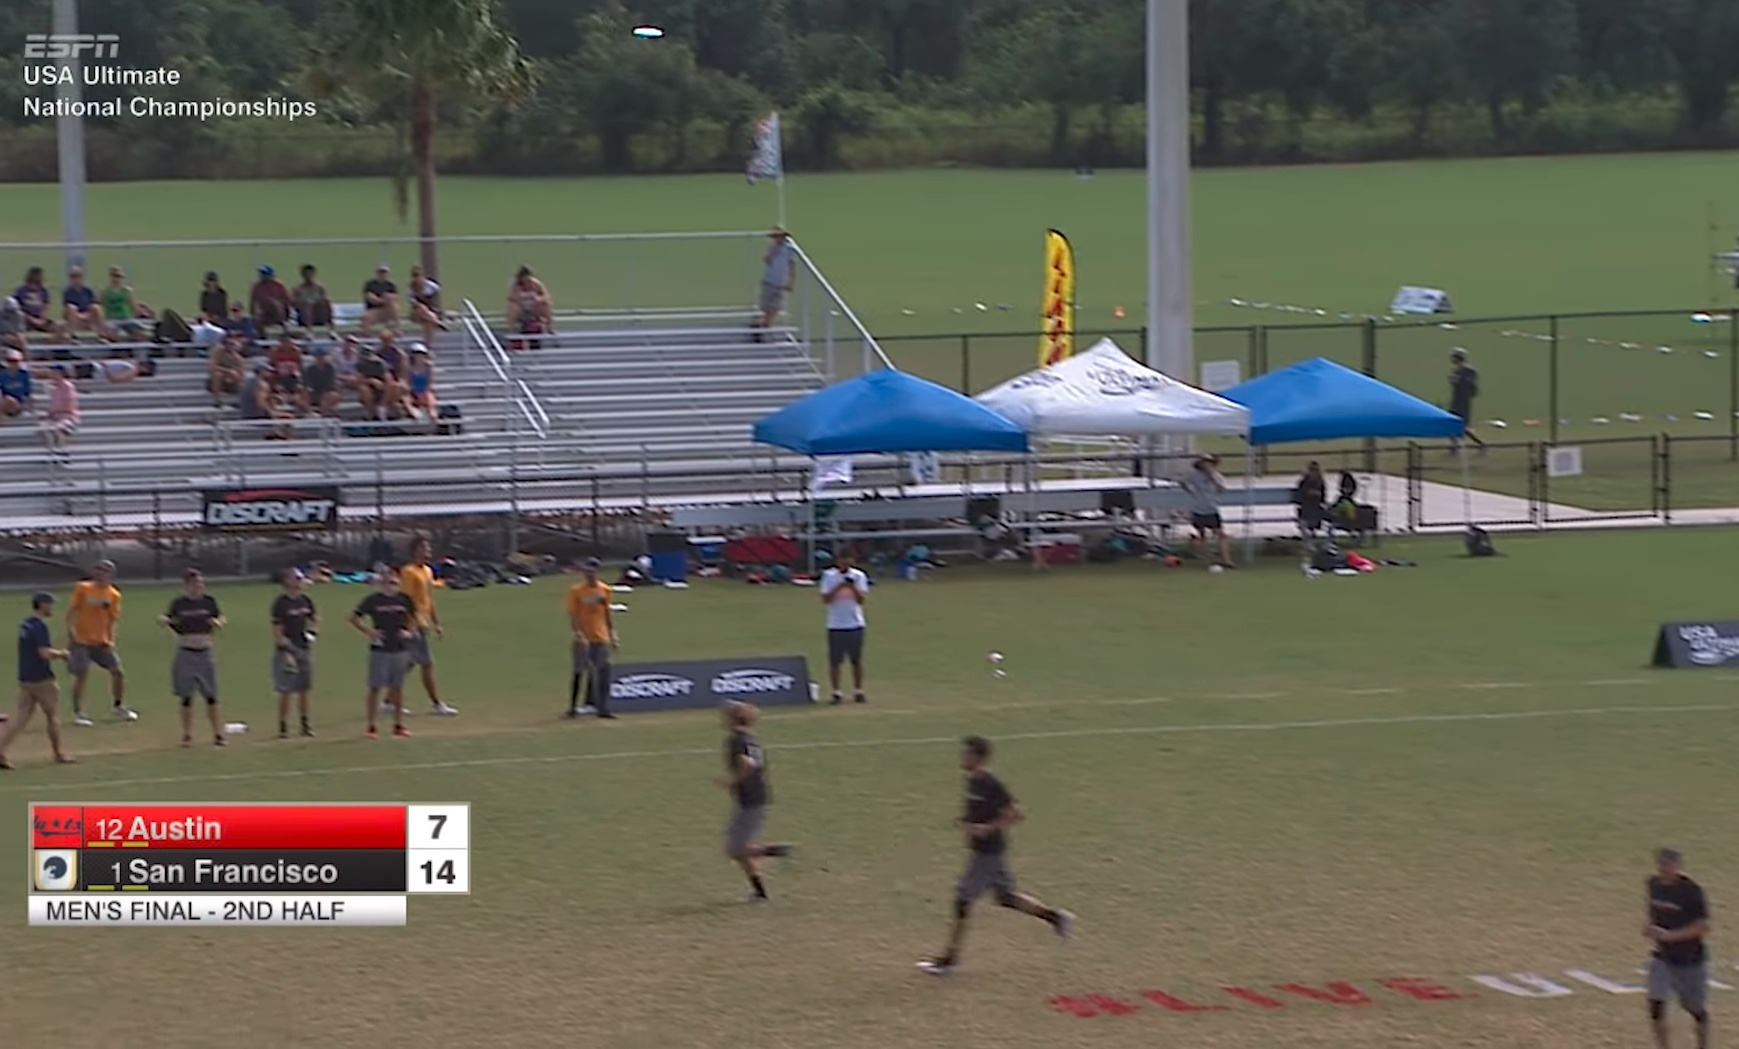frisbee: (633, 26, 665, 36), (791, 579, 817, 586), (665, 581, 689, 588), (1333, 569, 1358, 575)
